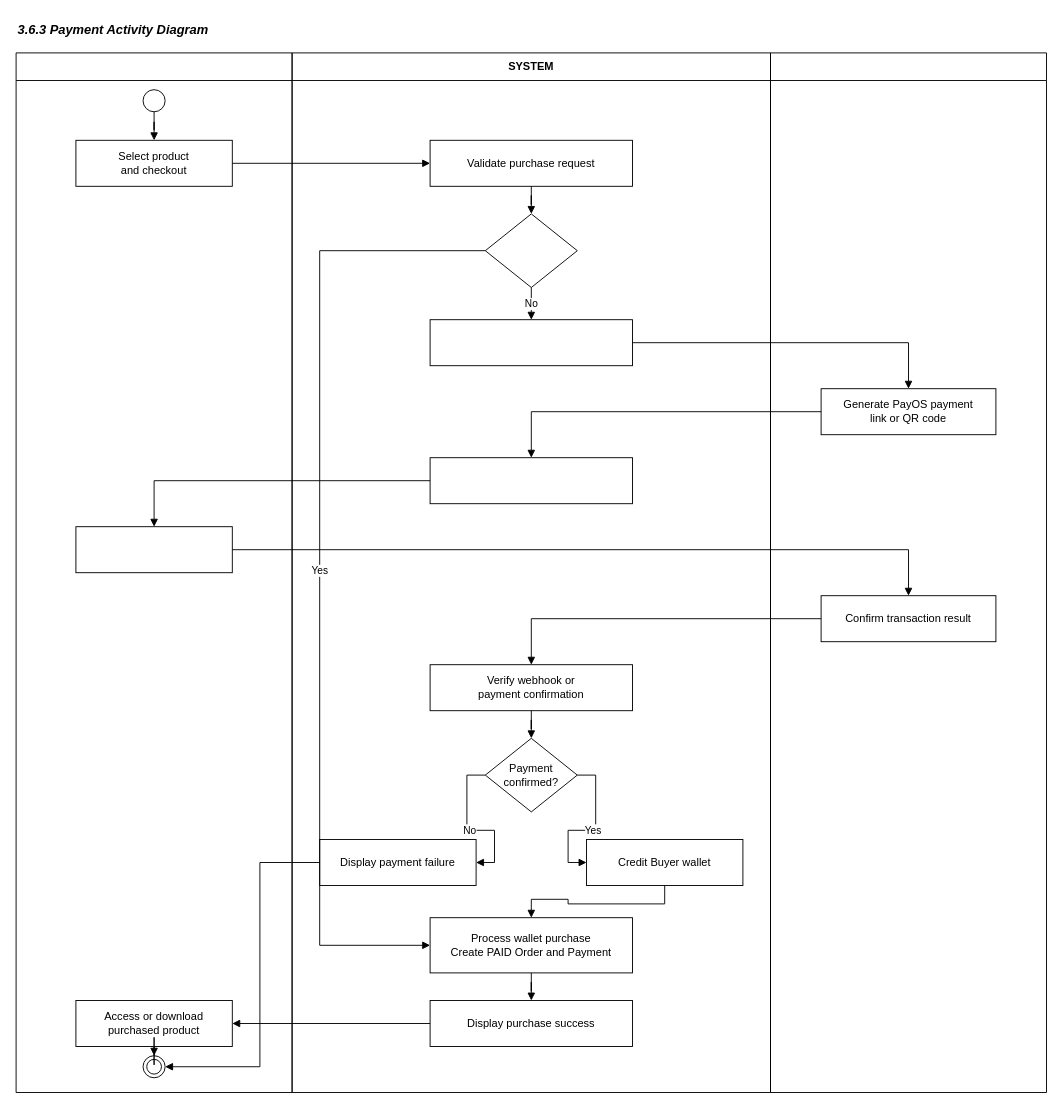
Image size: 1063x1109. Some labels were removed from this diagram. The shapes that lost their labels are listed below. From the top down, each one's box as (x1, y1, x2, y2) in pixels, then its label:
(484, 213, 577, 288): Sufficient wallet balance?
(429, 319, 632, 366): Create PENDING top-up Payment
(429, 457, 632, 504): Save checkout URL and redirect Buyer
(75, 526, 232, 573): Complete top-up on PayOS
(15, 52, 292, 1092): CUSTOMER
(770, 52, 1046, 1092): PAYMENT GATEWAY
